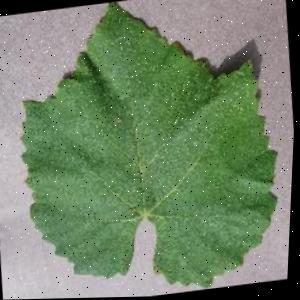Folha: (0, 0, 297, 300)
